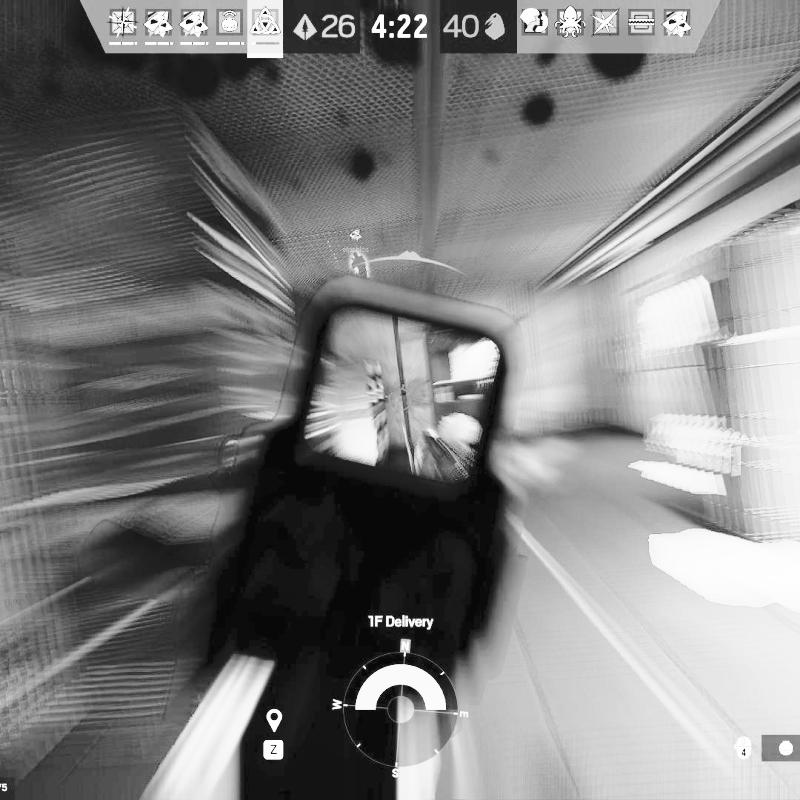Character: (411, 410, 486, 483), (364, 360, 391, 459)
Friend_label: (340, 228, 371, 253)
Head: (438, 411, 481, 455), (366, 362, 384, 385)
